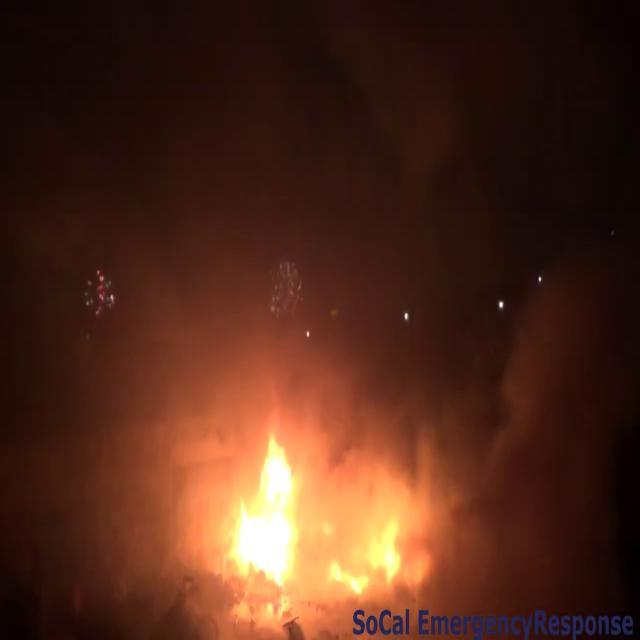Fire: (211, 418, 425, 624)
Smoke: (5, 0, 633, 576), (382, 198, 636, 586)
